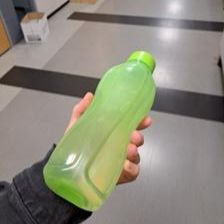bottle: (42, 47, 158, 213)
